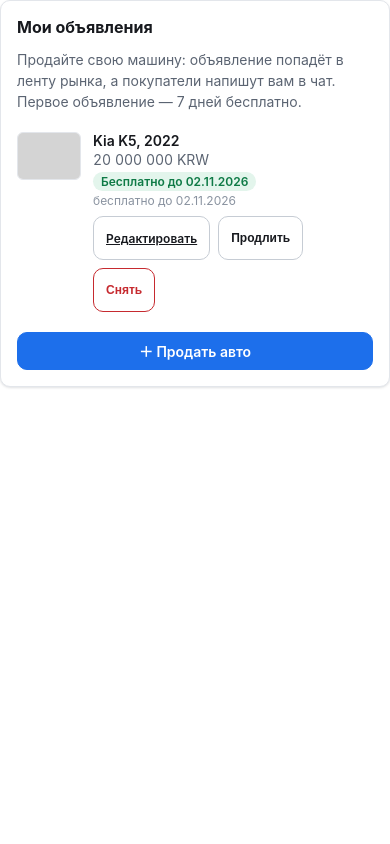
Test: «Мои объявления» — «Продлить» — extend + Stars-инвойс (06 §2) › выбор 1/4 нед → POST extend {weeks} → openInvoice → paid обновляет список
Click the button "Продлить": (261, 238) [218,216,303,260]
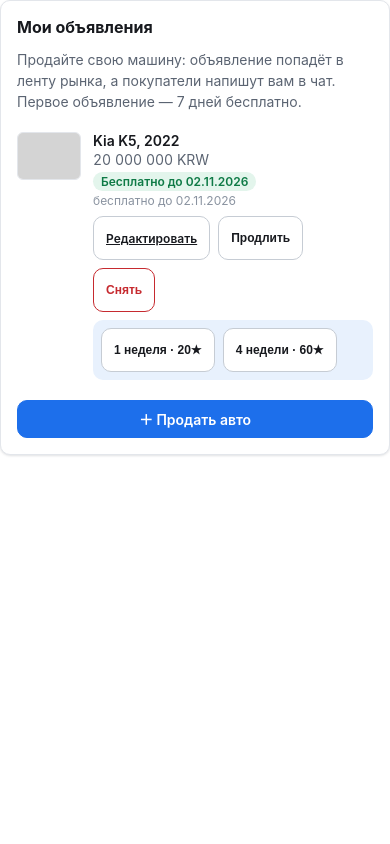
Click the button "1 неделя · 20★": (158, 350) [101,328,215,372]
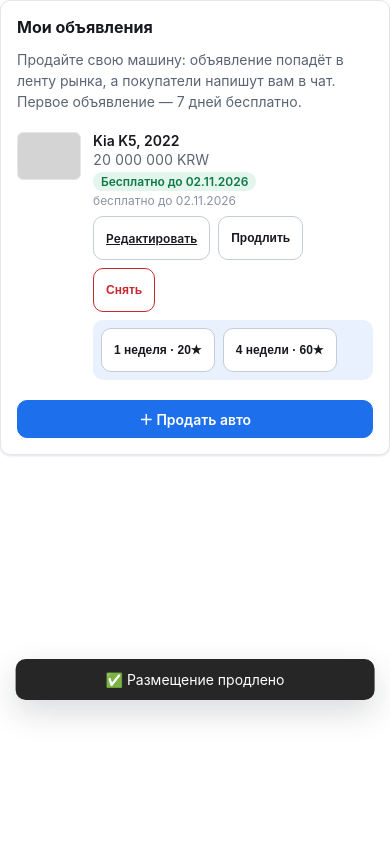
Result: the text "✅ Размещение продлено" is shown at [16,659,374,700]
